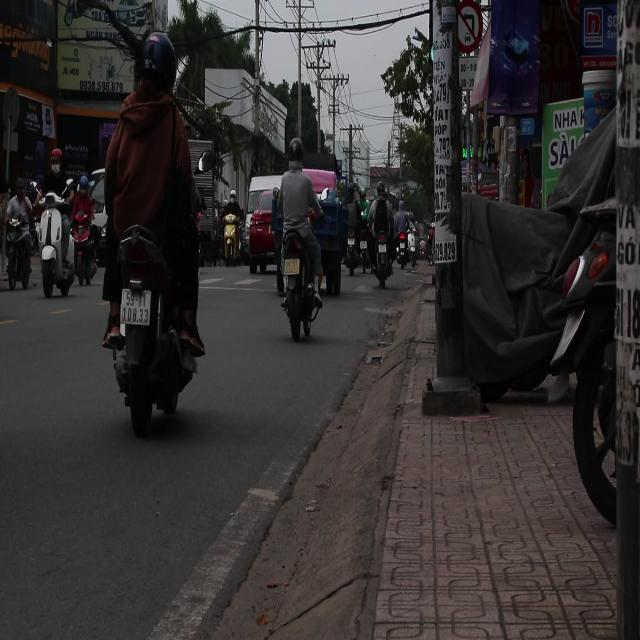car: (246, 185, 279, 274), (477, 175, 498, 199)
motorbike: (114, 210, 190, 425), (277, 206, 326, 345), (35, 195, 73, 298), (67, 207, 100, 289), (371, 215, 395, 293), (218, 197, 242, 266)
